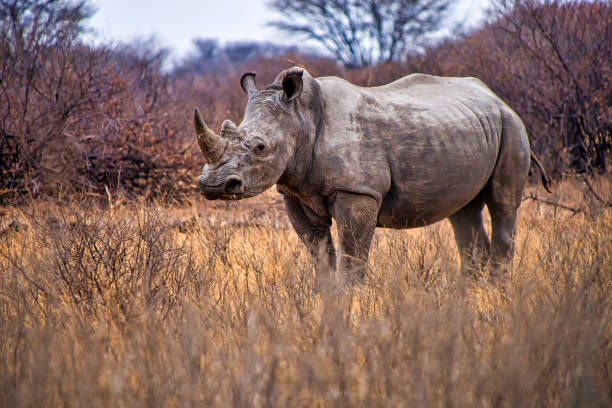rhino: (180, 57, 326, 216)
